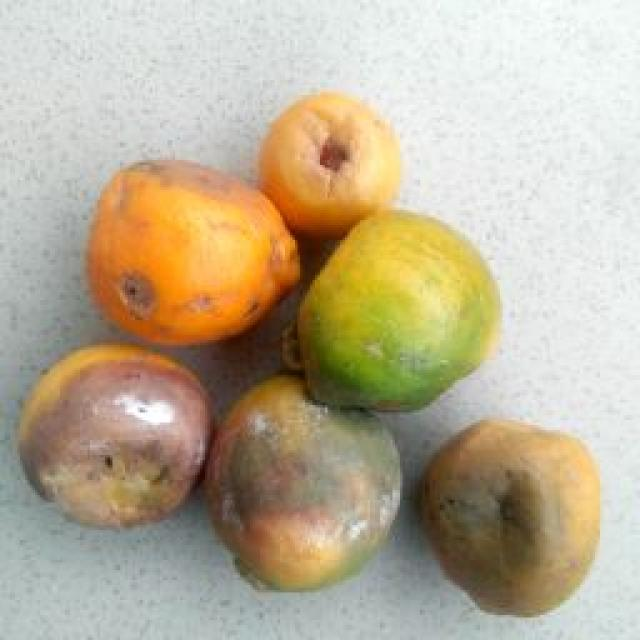Bad_Orange: (205, 375, 401, 589), (19, 344, 211, 527), (422, 420, 599, 616)
